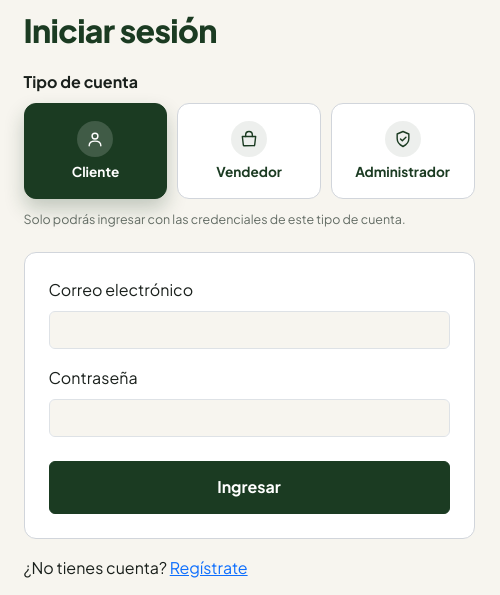
Scenario: Login › empieza en Cliente y cambia de tipo sin rellenar las credenciales
Click the button "Administrador".
click(403, 151)  # box [331,103,474,199]
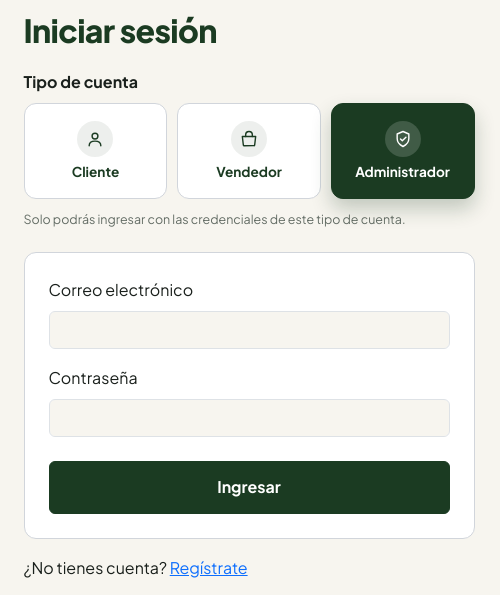
Expected: the field labelled "Correo electrónico" is empty, [48,311,450,349]
Result: the button "Administrador" is pressed at [331,103,474,199]
Result: the button "Cliente" is not pressed at [24,103,167,199]
